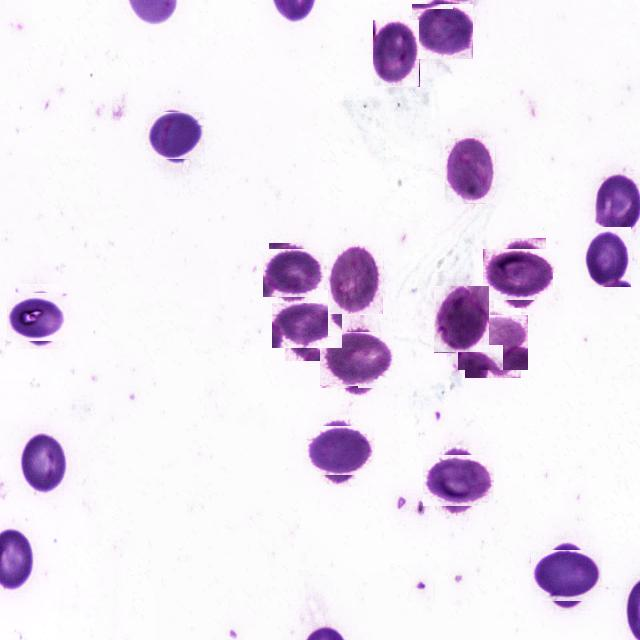red blood cell: (324, 328, 389, 392), (488, 244, 552, 306), (328, 245, 384, 315), (535, 544, 597, 606), (462, 312, 524, 374), (434, 286, 490, 353), (308, 421, 369, 482), (428, 450, 488, 511), (445, 138, 496, 204), (414, 2, 472, 60), (278, 296, 336, 354), (20, 430, 68, 497), (373, 20, 420, 87), (11, 288, 67, 344), (266, 246, 321, 301), (147, 109, 201, 162), (584, 227, 631, 287)
